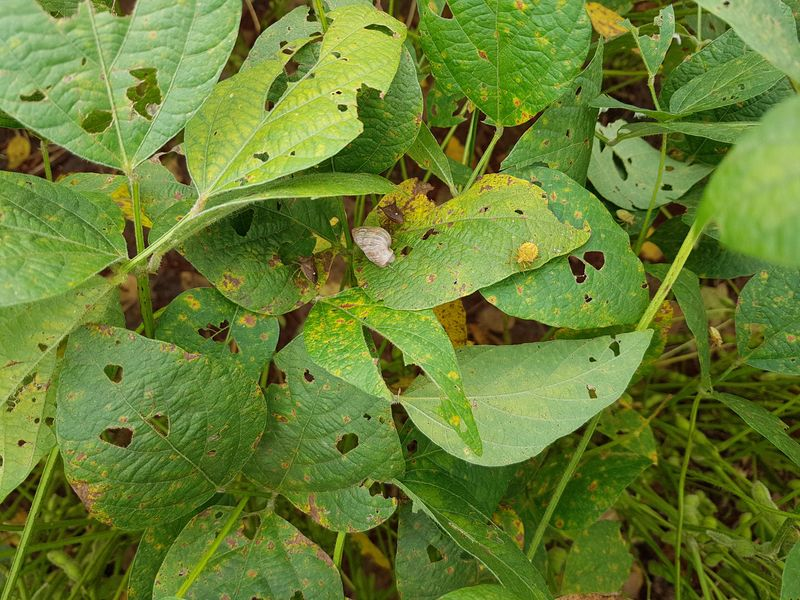Euschistus_heros_adulto: (286, 251, 320, 290), (378, 197, 409, 226)
Euschistus_heros_ninfa: (509, 240, 542, 272), (613, 207, 639, 232), (705, 323, 727, 352)
Gastropoda: (345, 226, 408, 272)
